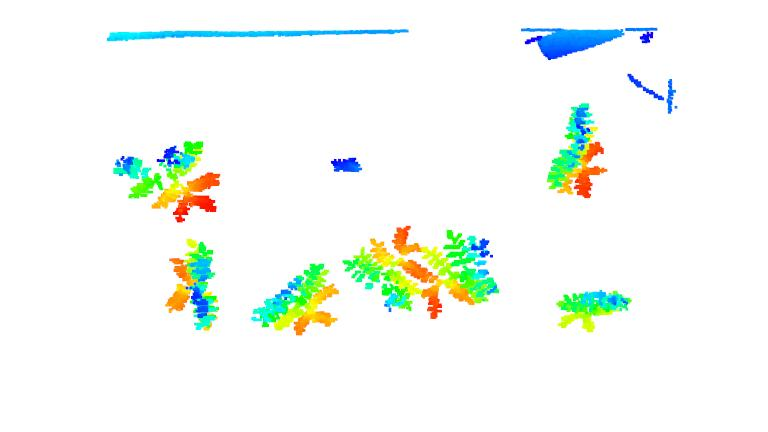chickpea: (111, 136, 222, 223), (248, 259, 343, 342), (408, 229, 497, 317), (342, 221, 420, 319), (545, 98, 609, 202), (163, 237, 221, 332), (554, 286, 637, 335)
